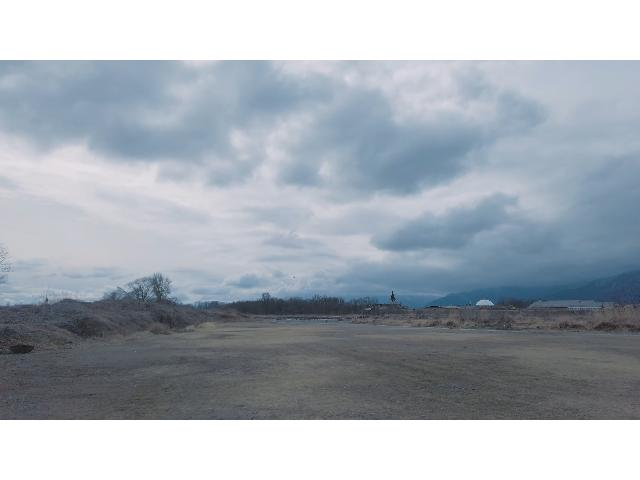Anti-Drone: (291, 274, 297, 280)
